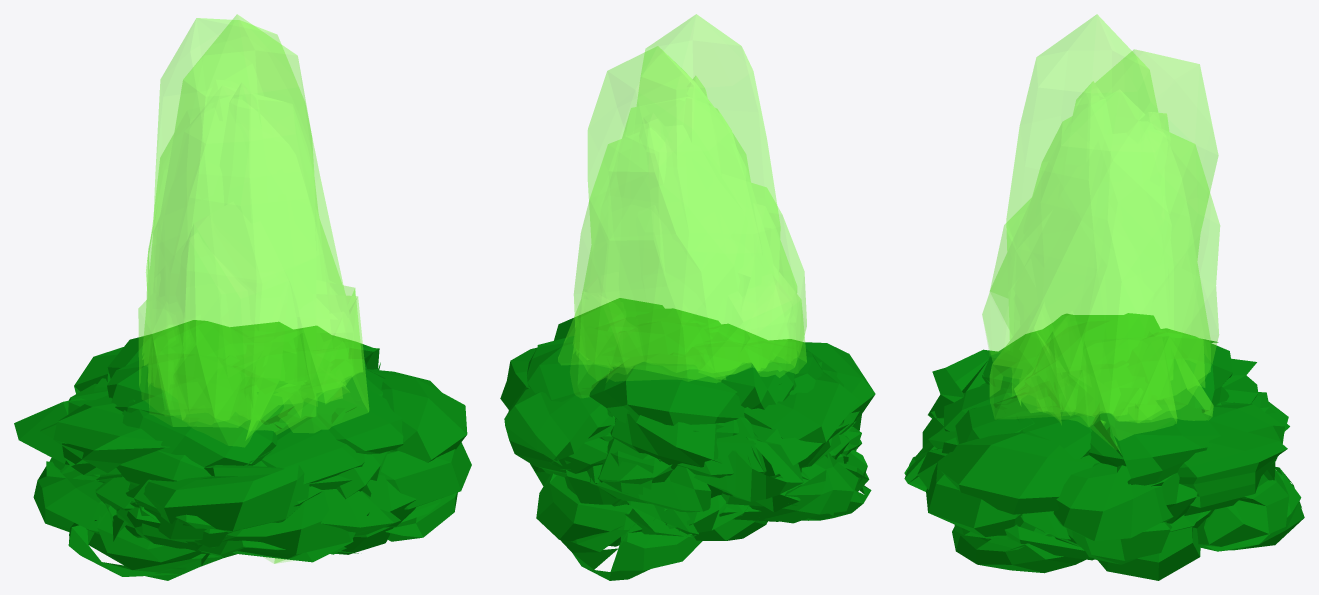
File: XRYSTAL52.gltf
3 views of the same model, side by side, from view 1: azimuth 30°, elevation 25°; view 2: azimuth 150°, elevation 25°; view 3: azimuth 270°, elevation 25° (orthographic). The views are drawn at different scales.
Visible parts, largest first — view 1: Cube.001, Circle; view 2: Cube.001, Circle; view 3: Circle, Cube.001.
Part boxes in pixels (left/top/right/bottom): Cube.001: left=14, top=320, right=471, bottom=580; Circle: left=138, top=14, right=368, bottom=563; Cube.001: left=500, top=298, right=875, bottom=580; Circle: left=558, top=14, right=806, bottom=397; Circle: left=982, top=14, right=1219, bottom=452; Cube.001: left=904, top=313, right=1304, bottom=580.
Bounding box in the file's own units: 2.79 × 3.73 × 2.59.
